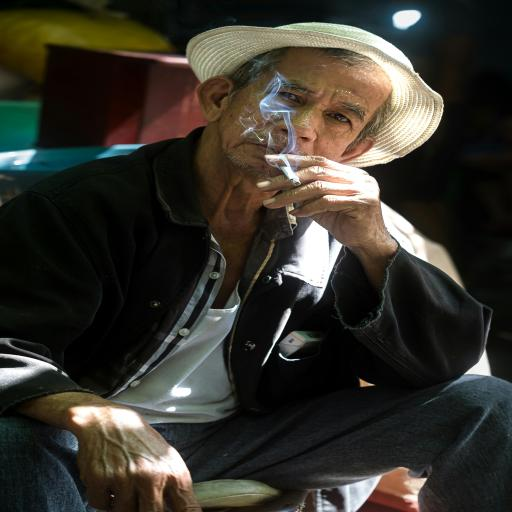pegang rokok: (238, 86, 365, 214)
